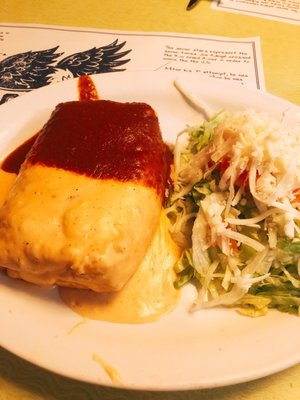soup: (0, 92, 178, 323), (164, 105, 300, 319)
